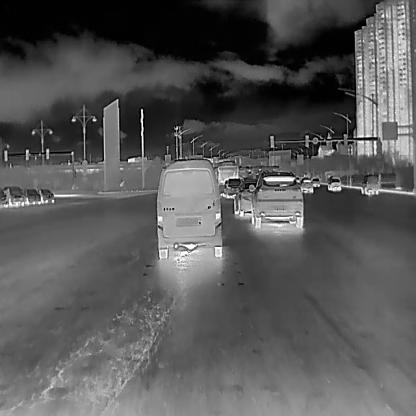car: (154, 157, 222, 258), (251, 170, 304, 228), (233, 180, 257, 216), (4, 184, 23, 206), (223, 177, 240, 198), (361, 174, 378, 194), (24, 187, 40, 203), (38, 186, 54, 202), (298, 177, 312, 193), (327, 175, 341, 191), (311, 177, 319, 187)
